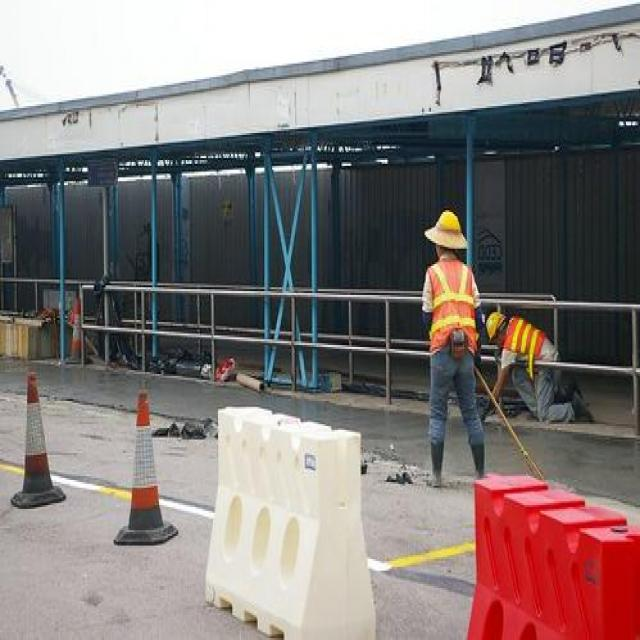Reflective-Jacket: (418, 256, 484, 368), (498, 310, 560, 384)
Safety-Helmet: (422, 202, 472, 255), (483, 305, 508, 345)
